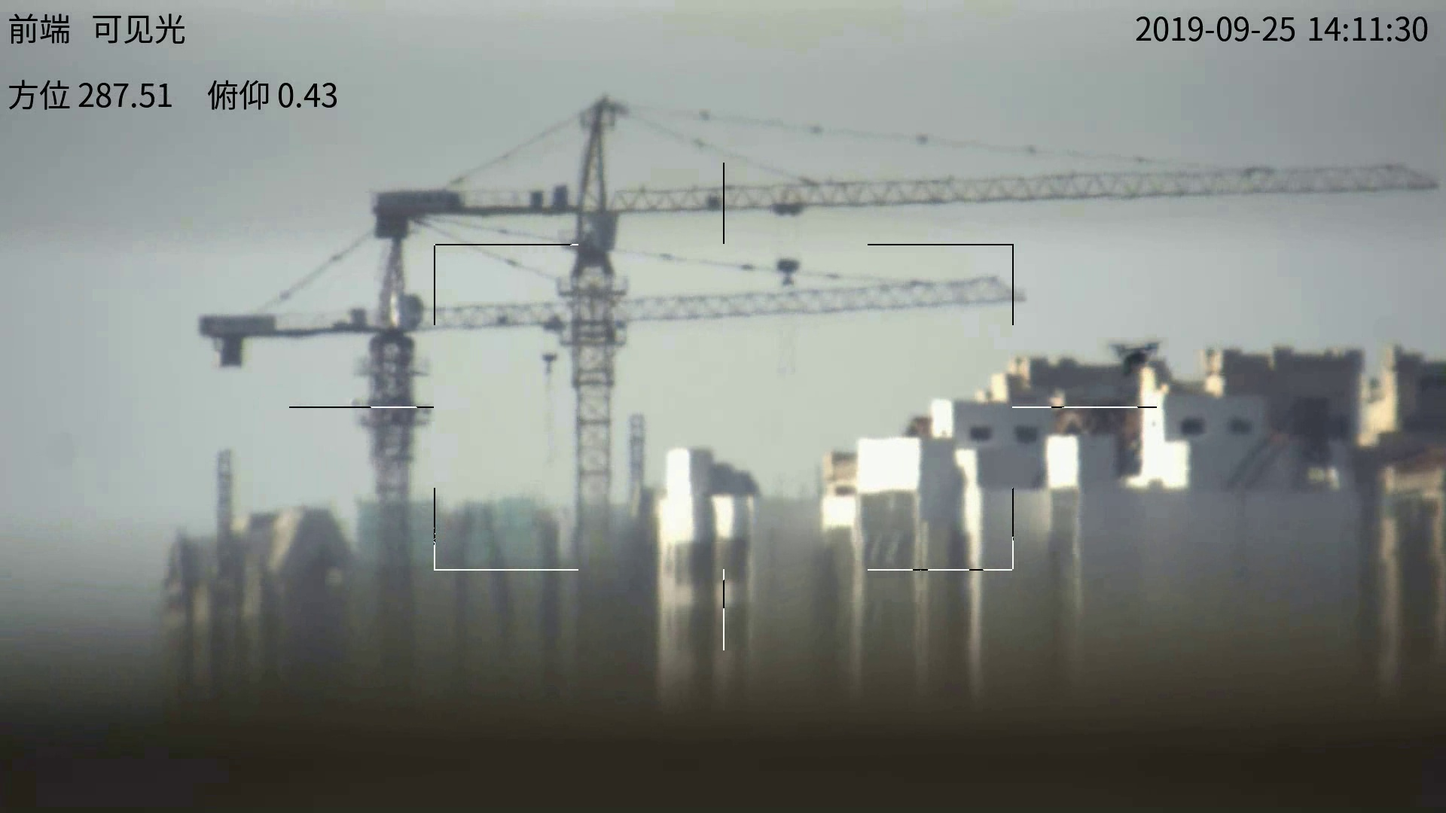drone_other: (1106, 335, 1170, 377)
